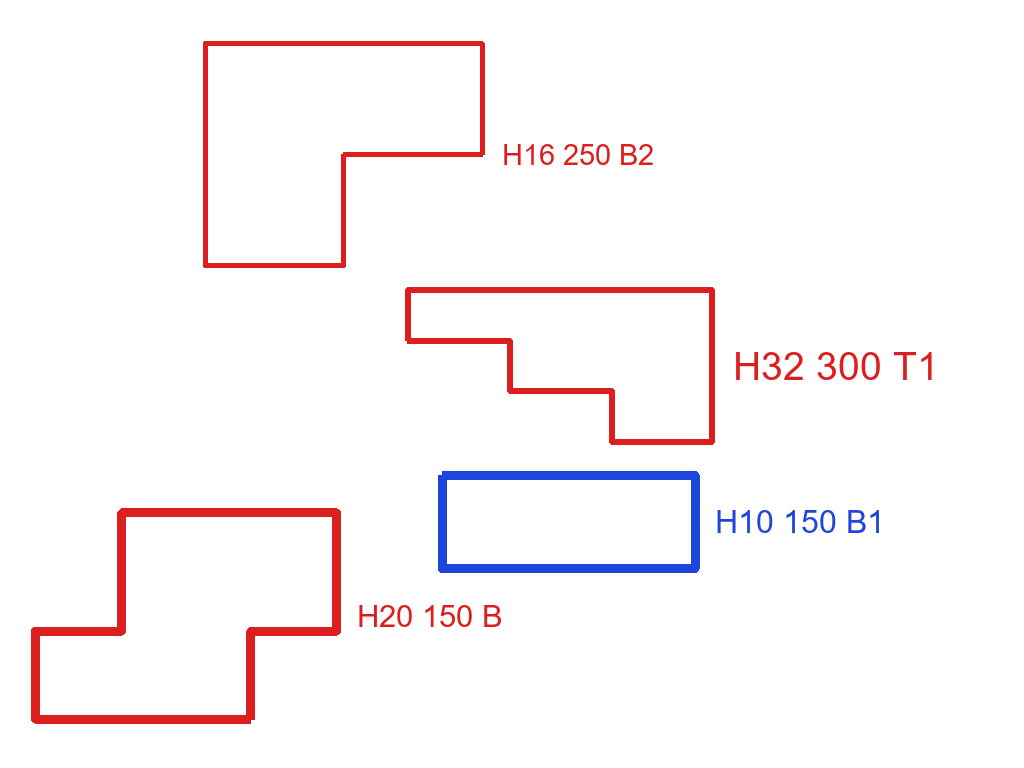shape: (29, 506, 343, 726), (201, 39, 487, 270), (403, 285, 718, 446), (436, 469, 702, 575)
text: (731, 350, 941, 382), (713, 508, 887, 535), (355, 603, 505, 629), (500, 142, 656, 167)
